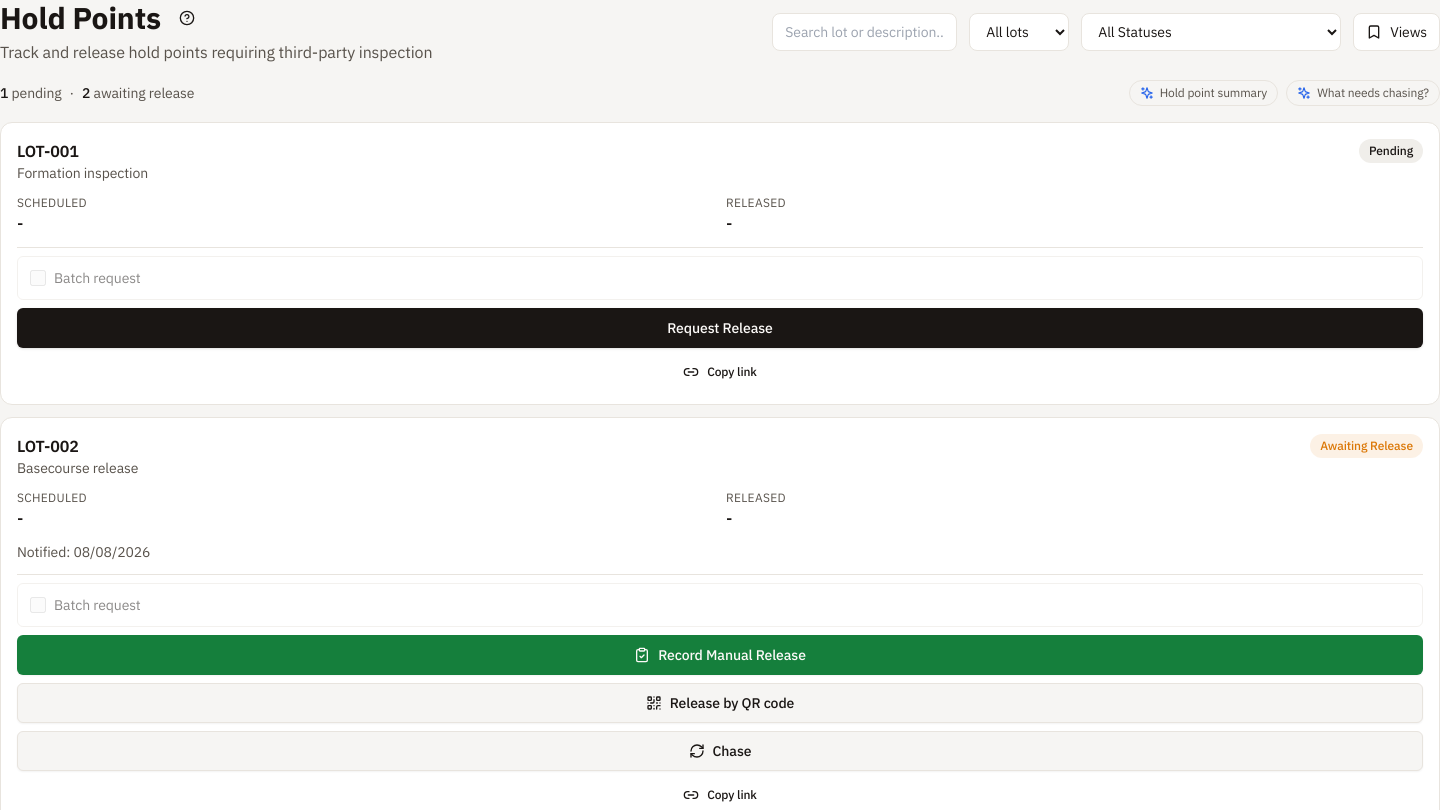
HoldPointsPage register data layer › shows only awaiting-release hold points with elapsed notice in the notice-expired view
Expected: the heading "LOT-001" is shown, x1=17 y1=141 x2=79 y2=161
Select "Awaiting Release — Notice Expired" in the dropdown named "Filter hold points by status": (1211, 32) x1=1081 y1=13 x2=1341 y2=51
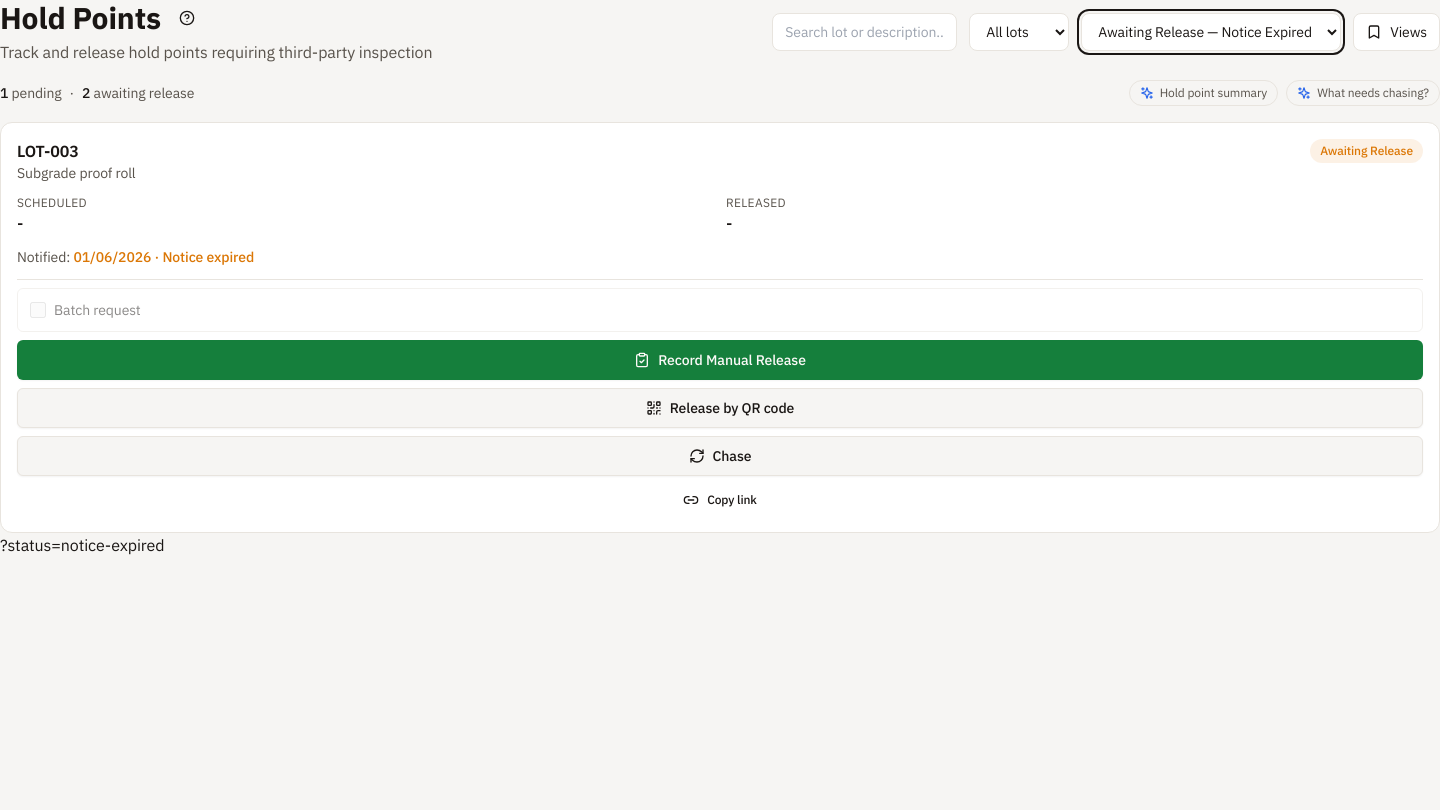
Expected: the text with test id "location-search" reads "?status=notice-expired", x1=0 y1=535 x2=164 y2=555
Expected: the heading "LOT-002" is gone
Expected: the heading "LOT-001" is gone
